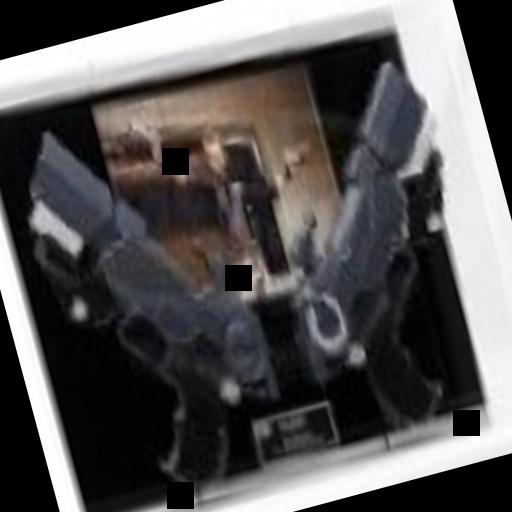Handgun: (5, 90, 295, 508), (251, 42, 503, 447)
